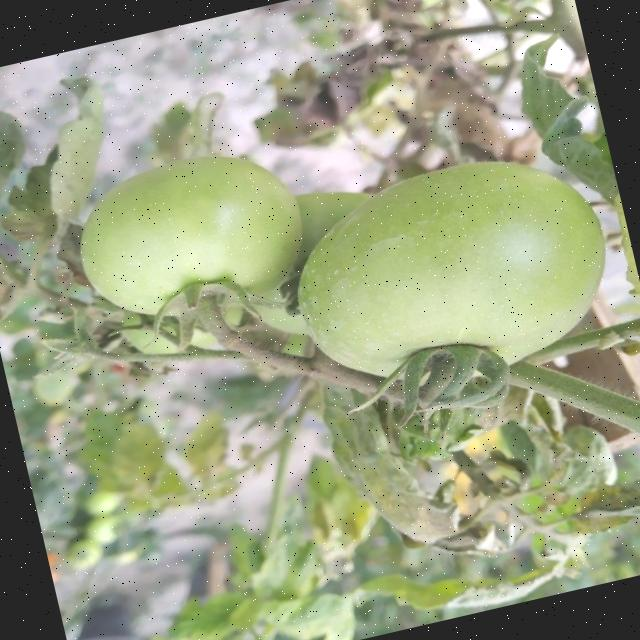Unripe: (275, 134, 626, 412), (66, 137, 316, 340)
